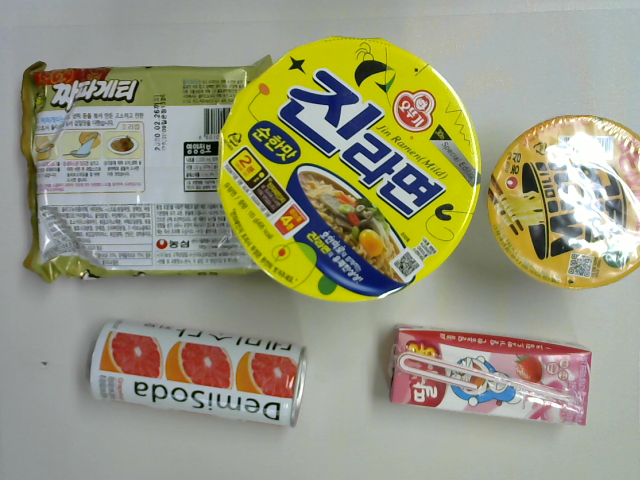Demisoda_Grapefruit_Can_250ml: (85, 315, 312, 436)
Hejangmini: (484, 110, 640, 292)
Jinlamyeon_Mild_Taste_Large_Cup: (214, 34, 482, 307)
Olive_Chapaghetti: (19, 48, 279, 289)
Strawberry_E_Mong: (382, 322, 595, 430)
